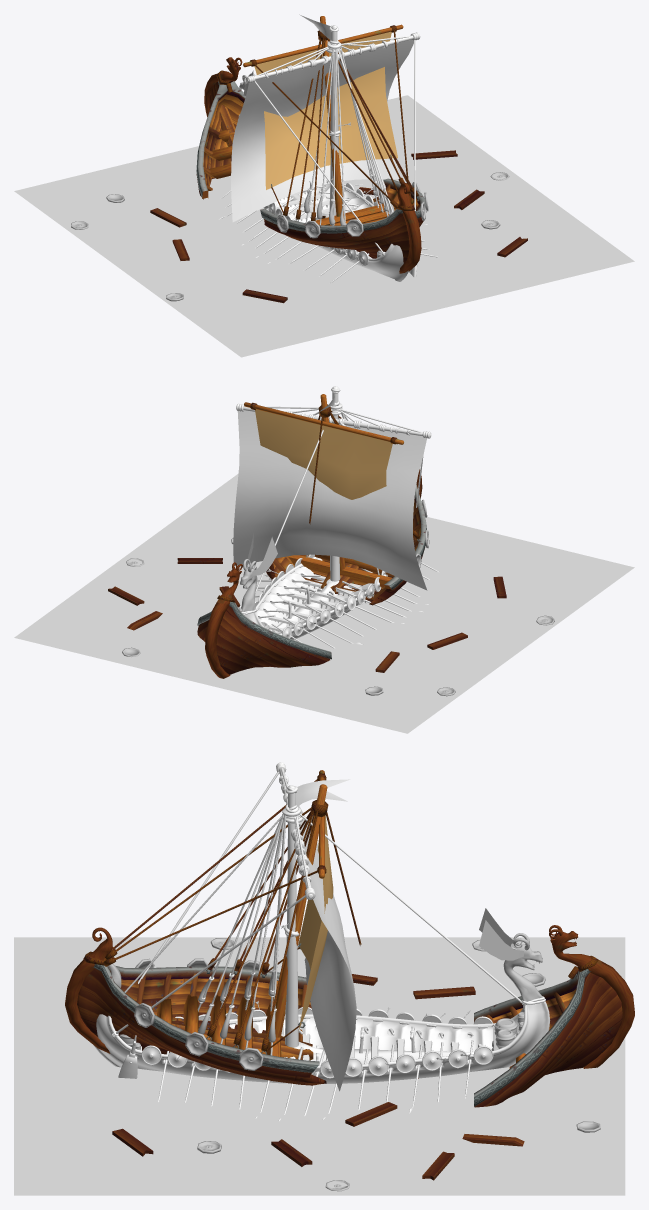
Rendered from VikingShip_ForestProp_002.fbx.
3 views of the same model, one above another, from view 1: azimuth 30°, elevation 25°; view 2: azimuth 150°, elevation 25°; view 3: azimuth 270°, elevation 25° (orthographic). The views are drawn at different scales.
Parts seen in each view (by area): view 1: 平面, ship, sail帆.001, Enclosure船围.001, Hull船身.001, Cabin船舱.001, board木板, Bottom船底.001, Shield盾牌.001; view 2: 平面, ship, sail帆.001, Enclosure船围.001, Hull船身.001, board木板, Bottom船底.001, Cabin船舱.001, Shield盾牌.001; view 3: 平面, ship, Enclosure船围.001, Hull船身.001, Cabin船舱.001, Bottom船底.001, board木板, Shield盾牌.001, sail帆.001.
Boxes of the visible parts, x1,y1,x2,y2 form: 平面: [14, 95, 634, 357]; ship: [219, 14, 438, 283]; sail帆.001: [254, 31, 397, 189]; Enclosure船围.001: [196, 16, 425, 233]; Hull船身.001: [196, 82, 423, 263]; Cabin船舱.001: [203, 94, 420, 218]; board木板: [150, 150, 527, 303]; Bottom船底.001: [204, 57, 421, 273]; Shield盾牌.001: [71, 172, 509, 301]; 平面: [14, 473, 634, 733]; ship: [233, 386, 438, 648]; sail帆.001: [255, 409, 392, 499]; Enclosure船围.001: [197, 394, 426, 659]; Hull船身.001: [197, 484, 424, 674]; board木板: [108, 558, 506, 672]; Bottom船底.001: [205, 469, 422, 678]; Cabin船舱.001: [273, 499, 420, 601]; Shield盾牌.001: [122, 499, 554, 696]; 平面: [14, 937, 625, 1195]; ship: [93, 762, 550, 1120]; Enclosure船围.001: [83, 770, 598, 1106]; Hull船身.001: [77, 968, 622, 1107]; Cabin船舱.001: [121, 973, 576, 1068]; Bottom船底.001: [65, 925, 634, 1068]; board木板: [112, 974, 524, 1180]; Shield盾牌.001: [134, 938, 600, 1191]; sail帆.001: [298, 815, 333, 1030].
Bounding box in the file's own units: 10000 × 5964 × 10158.
